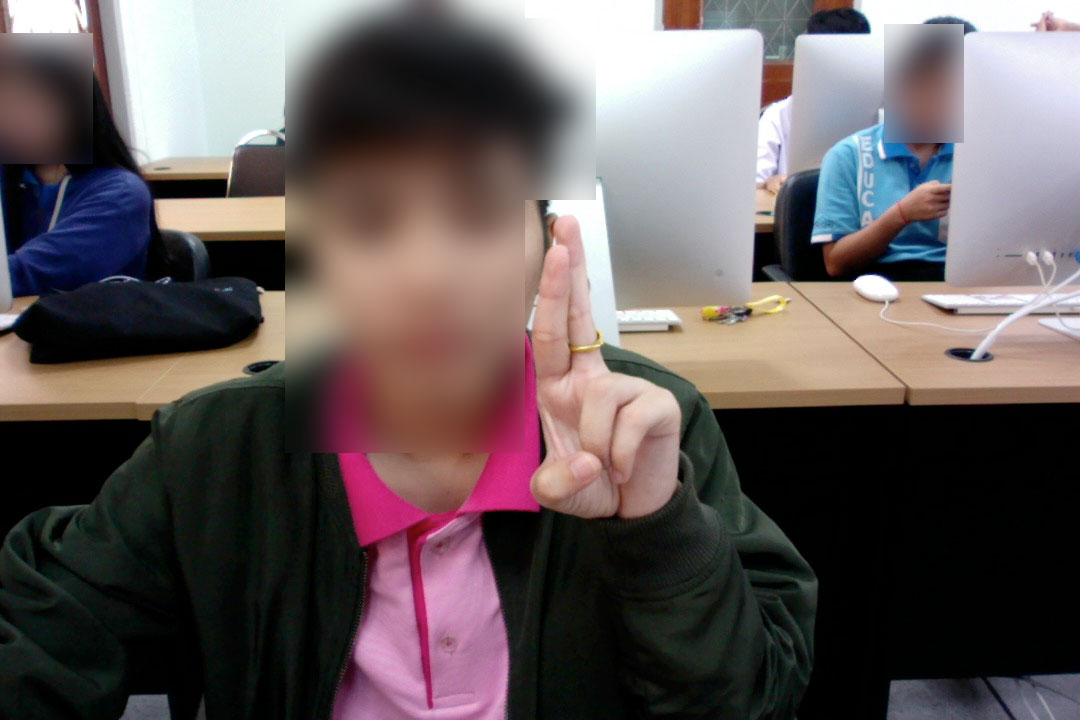rao: (507, 217, 713, 534)
